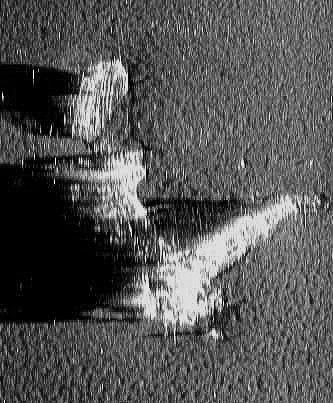plane: (51, 58, 299, 332)
